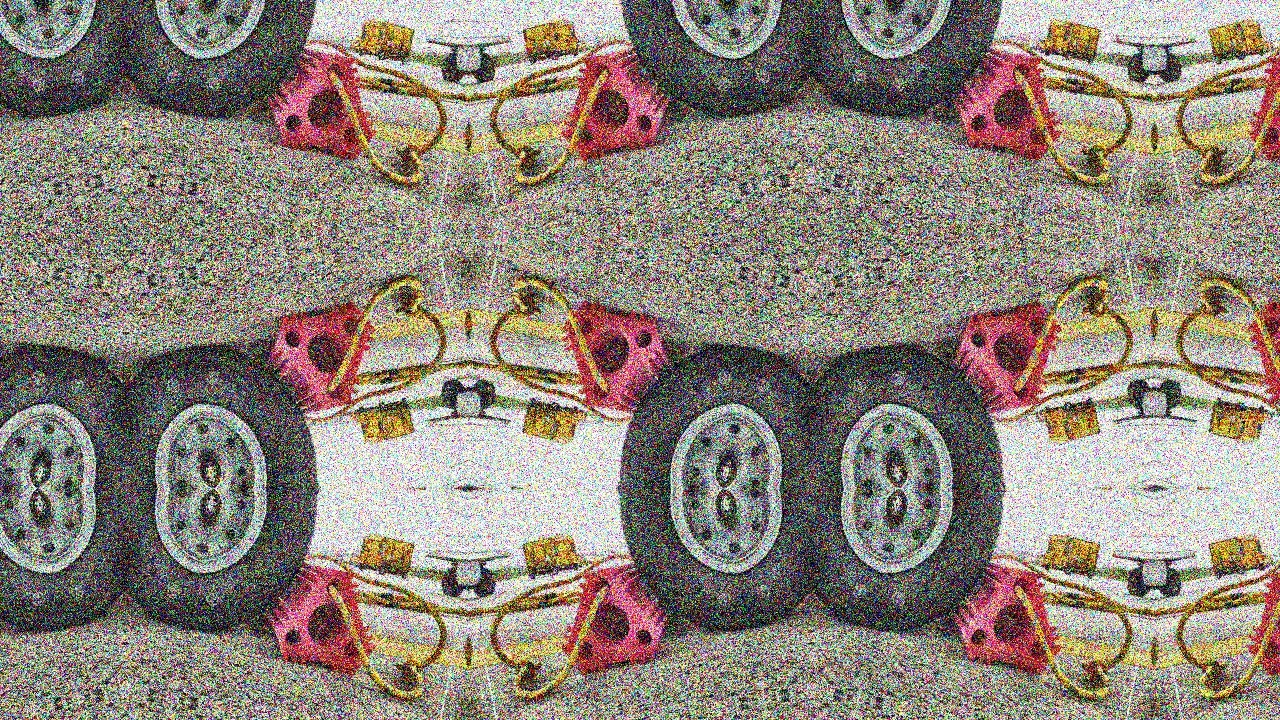chock: (547, 40, 684, 165), (939, 40, 1076, 165), (547, 297, 684, 422), (939, 297, 1076, 422), (547, 555, 684, 680), (939, 555, 1076, 680), (253, 40, 389, 165), (253, 297, 389, 422), (253, 555, 389, 680), (1234, 40, 1280, 165), (1234, 297, 1280, 422), (1234, 555, 1280, 680)
wheel: (616, 327, 751, 489), (616, 489, 751, 651), (186, 327, 320, 489), (873, 327, 1007, 489), (186, 489, 320, 651), (873, 489, 1007, 651), (616, 0, 751, 135), (186, 0, 320, 135), (873, 0, 1007, 135), (34, 347, 125, 489), (125, 347, 216, 489), (721, 347, 812, 489), (34, 489, 125, 630), (125, 489, 216, 630), (721, 489, 812, 630), (812, 347, 902, 489), (812, 489, 902, 630), (34, 0, 125, 115), (125, 0, 216, 115), (721, 0, 812, 115), (0, 327, 64, 489), (0, 489, 64, 651), (812, 0, 902, 115), (0, 0, 64, 135), (439, 568, 466, 599), (1126, 568, 1153, 599), (1157, 568, 1184, 599), (439, 53, 466, 83), (1126, 53, 1153, 83), (1157, 53, 1184, 83), (439, 379, 466, 409), (1126, 379, 1153, 409), (1157, 379, 1184, 409), (471, 568, 497, 599), (471, 53, 497, 83), (471, 379, 497, 409), (377, 52, 385, 60), (551, 52, 559, 60), (1064, 52, 1072, 60), (1238, 52, 1246, 60), (377, 402, 385, 410), (551, 402, 559, 410), (1064, 402, 1072, 410), (1238, 402, 1246, 410), (377, 567, 385, 575), (551, 567, 559, 575), (1064, 567, 1072, 575), (1238, 567, 1246, 575), (400, 56, 407, 65), (529, 56, 536, 65), (1087, 56, 1094, 65), (1216, 56, 1223, 65), (400, 397, 407, 406), (529, 397, 536, 406), (1087, 397, 1094, 406), (1216, 397, 1223, 406), (358, 48, 365, 56), (572, 48, 579, 56), (358, 406, 365, 414), (572, 406, 579, 414), (358, 563, 365, 571), (400, 572, 407, 580), (572, 563, 579, 571), (529, 572, 536, 580), (1087, 572, 1094, 580), (1216, 572, 1223, 580), (1045, 48, 1051, 56), (1259, 48, 1265, 56), (1045, 406, 1051, 414), (1259, 406, 1265, 414), (1045, 563, 1051, 571), (1259, 563, 1265, 571), (352, 46, 358, 53), (579, 46, 585, 53), (1038, 46, 1044, 53), (1266, 46, 1272, 53), (352, 409, 358, 416), (579, 409, 585, 416), (1038, 409, 1044, 416), (1266, 409, 1272, 416), (352, 561, 358, 568), (579, 561, 585, 568), (1038, 561, 1044, 568), (1266, 561, 1272, 568)
